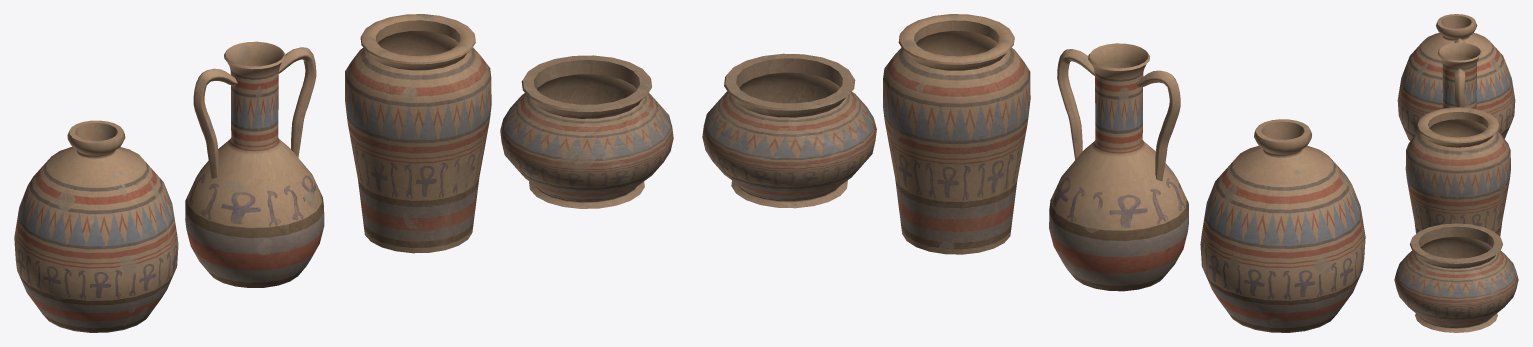
Rendered from egyptian_pottery.glb.
The picture shows the model from 3 angles, left to right: view 1: azimuth 30°, elevation 25°; view 2: azimuth 150°, elevation 25°; view 3: azimuth 270°, elevation 25°; orthographic projection. The views are drawn at different scales.
Parts seen in each view (by area): view 1: pCylinder1, pCylinder4, pCylinder7, pCylinder2; view 2: pCylinder1, pCylinder4, pCylinder7, pCylinder2; view 3: pCylinder1, pCylinder2, pCylinder4, pCylinder7.
Part boxes in pixels (x1,y1,x2,y2): pCylinder1: [345, 14, 491, 253]; pCylinder4: [14, 120, 178, 332]; pCylinder7: [185, 41, 324, 287]; pCylinder2: [500, 55, 673, 208]; pCylinder1: [883, 14, 1030, 254]; pCylinder4: [1200, 119, 1365, 332]; pCylinder7: [1049, 43, 1188, 291]; pCylinder2: [702, 53, 876, 208]; pCylinder1: [1405, 107, 1510, 236]; pCylinder2: [1394, 223, 1518, 332]; pCylinder4: [1397, 14, 1515, 140]; pCylinder7: [1437, 38, 1481, 109].
Bounding box in the file's own units: 46.85 × 15.1 × 11.1.
Materials: 4 (4 with a texture image).
